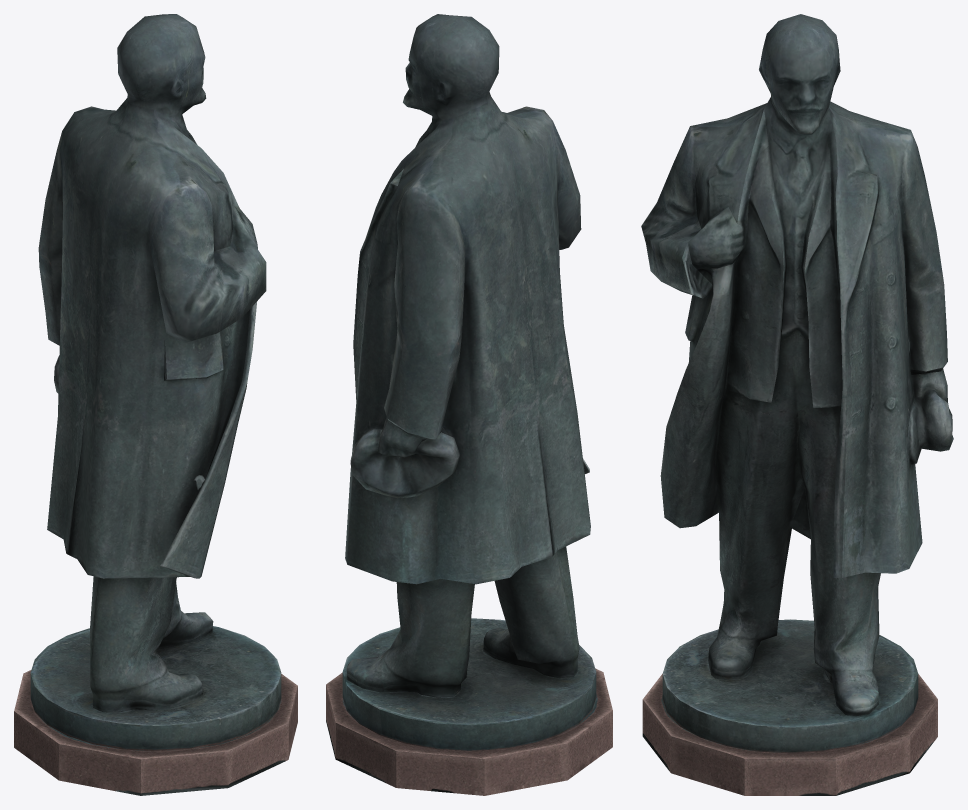
The model's file is park_monument.glb.
The picture shows the model from 3 angles, left to right: view 1: azimuth 30°, elevation 25°; view 2: azimuth 150°, elevation 25°; view 3: azimuth 270°, elevation 25°; orthographic projection.
Parts seen in each view (by area): view 1: Plane, Cylinder; view 2: Plane, Cylinder; view 3: Plane, Cylinder.
Boxes of the visible parts, x1,y1,x2,y2 form: Plane: (38,14,266,712); Cylinder: (14,626,297,795); Plane: (345,14,590,697); Cylinder: (326,618,612,795); Plane: (641,14,953,716); Cylinder: (642,619,937,795).
Bounding box in the file's own units: 1.41 × 4.01 × 1.57.
1 material, 1 textured.
